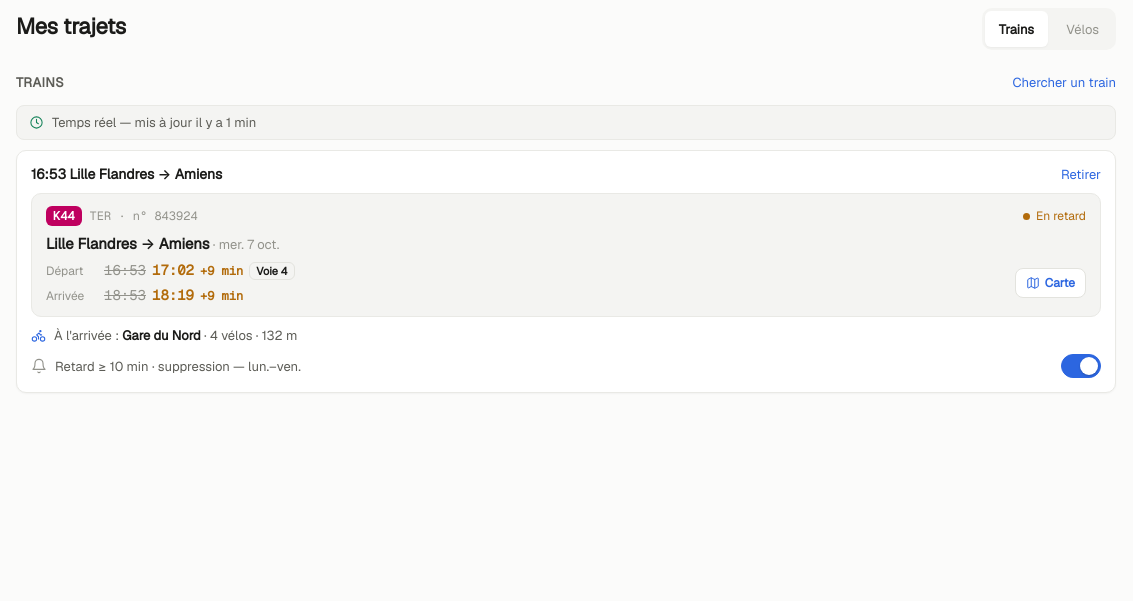
Test case: Mes trajets › appui court : ouvre le détail ; défilement : pas d'appui long
Press the mouse on the link named "Lille Flandres Amiens" at (163, 244), box [46,234,279,253]
Click the link named "Lille Flandres Amiens" at (163, 244), box [46,234,279,253]
Wait 4000 ms
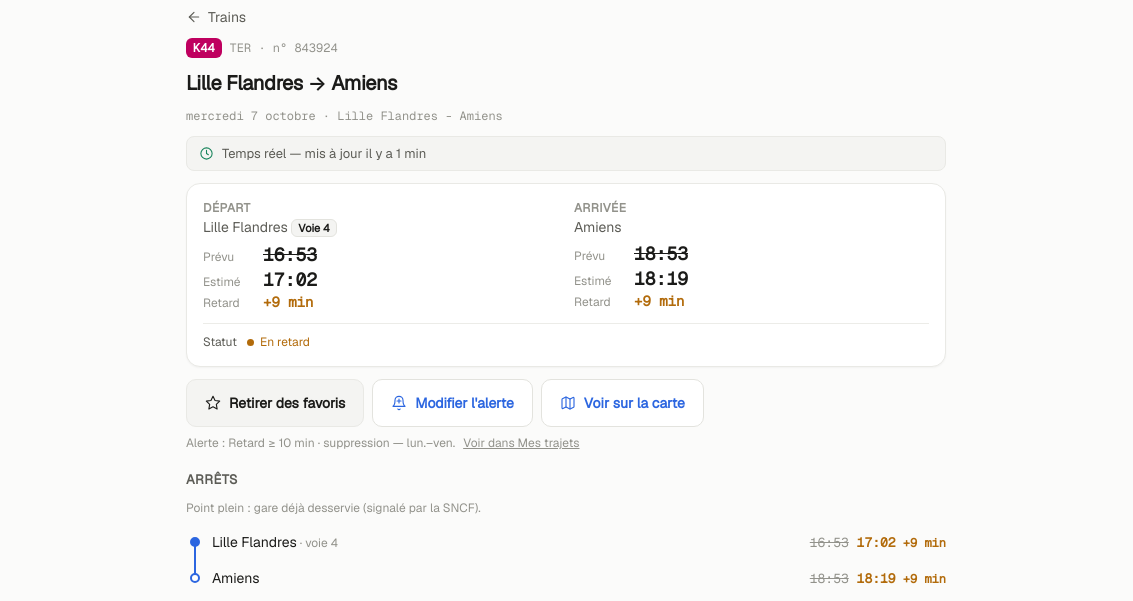
Expected: the heading "Lille Flandres → Amiens" is shown, [186,70,397,96]
